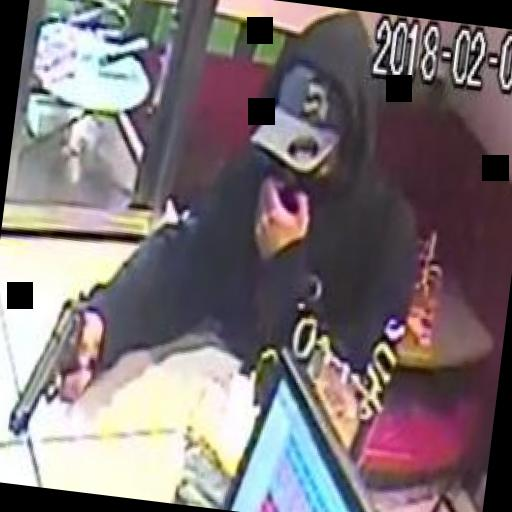Handgun: (2, 284, 114, 442)
